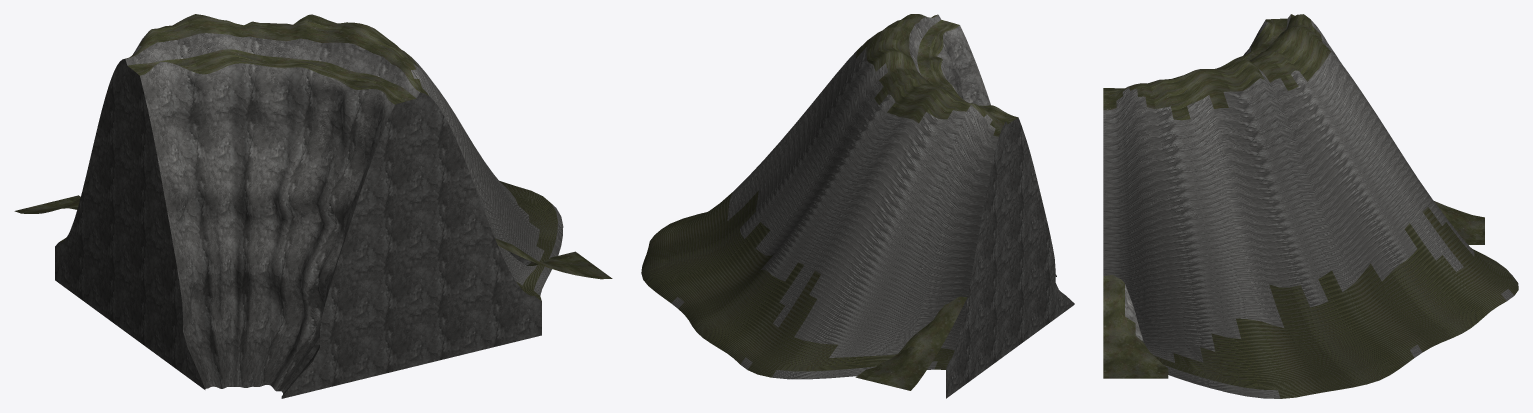
File: seacliff_inner_h8_v5_summer.glb
3 views of the same model, side by side, from view 1: azimuth 30°, elevation 25°; view 2: azimuth 150°, elevation 25°; view 3: azimuth 270°, elevation 25° (orthographic). The views are drawn at different scales.
Visible parts, largest first — view 1: seacliff_inner_h8; view 2: seacliff_inner_h8; view 3: seacliff_inner_h8.
Part boxes in pixels (left/top/right/bottom): seacliff_inner_h8: left=14, top=14, right=612, bottom=398; seacliff_inner_h8: left=641, top=14, right=1074, bottom=398; seacliff_inner_h8: left=1103, top=14, right=1518, bottom=398.
Bounding box in the file's own units: 15.44 × 10.6 × 15.33.
Materials: 2 (2 with a texture image).
